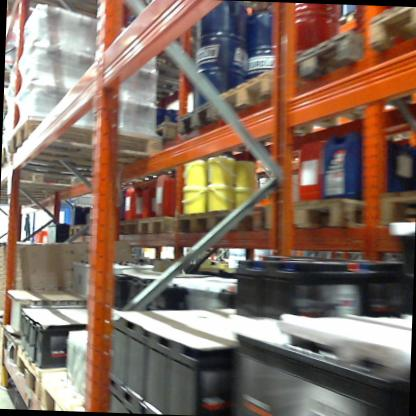pallet: (6, 114, 166, 184), (220, 61, 331, 126), (264, 186, 373, 244), (285, 22, 366, 99), (17, 348, 74, 401), (39, 373, 113, 412), (366, 8, 416, 58), (214, 200, 270, 242), (372, 179, 414, 235), (172, 87, 221, 134), (175, 207, 213, 242), (137, 211, 181, 240), (0, 309, 29, 346), (148, 115, 179, 149), (0, 325, 20, 371), (114, 215, 139, 237), (62, 223, 86, 244)
